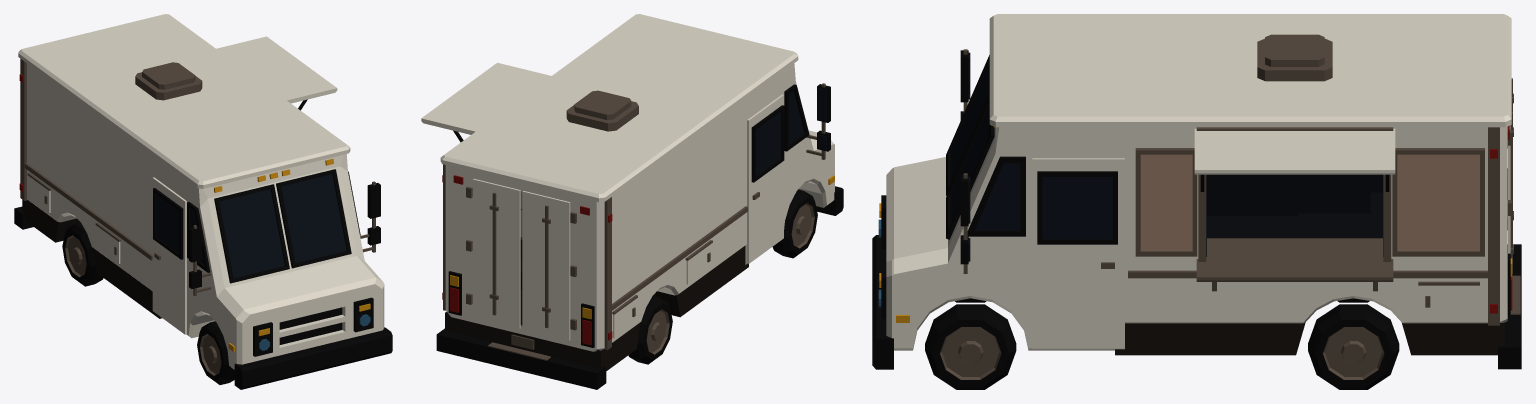
Rendered from food-truck-3c4e0e.fbx.
The picture shows the model from 3 angles, left to right: view 1: azimuth 30°, elevation 25°; view 2: azimuth 150°, elevation 25°; view 3: azimuth 270°, elevation 25°; orthographic projection. The views are drawn at different scales.
Parts seen in each view (by area): view 1: body_body, body_dark, body_glass, body_trim, door-cab-r-mesh_body, body_band, door-cab-r-mesh_glass, wheel-mesh_3_dark, wheel-mesh_1_dark, door-cab-r-mesh_dark, wheel-mesh_3_trim, wheel-mesh_1_trim (+1 smaller); view 2: body_body, body_trim, door-rear-l-mesh_body, door-rear-r-mesh_body, body_dark, body_band, door-cab-r-mesh_body, wheel-mesh_1_dark, wheel-mesh_3_dark, door-cab-r-mesh_glass, body_glass, door-cab-r-mesh_dark (+5 smaller); view 3: body_body, body_trim, body_menu, door-cab-l-mesh_body, body_interior, body_band, body_dark, body_glass, door-cab-l-mesh_glass, wheel-mesh_2_dark, wheel-mesh_dark, wheel-mesh_trim (+2 smaller).
Part boxes in pixels (x1,y1,x2,y2): body_body: [18, 14, 384, 369]; body_dark: [14, 99, 392, 389]; body_glass: [190, 174, 346, 278]; body_trim: [20, 59, 375, 296]; door-cab-r-mesh_body: [152, 177, 186, 334]; body_band: [22, 199, 161, 318]; door-cab-r-mesh_glass: [156, 194, 179, 253]; wheel-mesh_3_dark: [62, 222, 103, 286]; wheel-mesh_1_dark: [197, 321, 234, 384]; door-cab-r-mesh_dark: [153, 188, 183, 259]; wheel-mesh_3_trim: [65, 235, 86, 277]; wheel-mesh_1_trim: [200, 334, 221, 375]; body_body: [421, 14, 834, 351]; body_trim: [443, 83, 825, 360]; door-rear-l-mesh_body: [472, 179, 520, 328]; door-rear-r-mesh_body: [522, 191, 570, 340]; body_dark: [436, 84, 843, 389]; body_band: [445, 246, 748, 370]; door-cab-r-mesh_body: [747, 94, 783, 263]; wheel-mesh_1_dark: [772, 189, 817, 258]; wheel-mesh_3_dark: [628, 295, 672, 364]; door-cab-r-mesh_glass: [756, 112, 780, 175]; body_glass: [789, 88, 826, 150]; door-cab-r-mesh_dark: [751, 105, 784, 182]; body_body: [886, 14, 1511, 350]; body_trim: [963, 34, 1520, 325]; body_menu: [1140, 154, 1479, 250]; door-cab-l-mesh_body: [1032, 158, 1124, 348]; body_interior: [1206, 174, 1383, 256]; body_band: [1115, 322, 1505, 355]; body_dark: [872, 50, 1521, 369]; body_glass: [950, 52, 1020, 261]; door-cab-l-mesh_glass: [1042, 177, 1112, 239]; wheel-mesh_2_dark: [1308, 304, 1399, 389]; wheel-mesh_dark: [925, 304, 1016, 389]; wheel-mesh_trim: [940, 327, 1001, 379].
Bounding box in the file's own units: 376 × 328 × 653.
